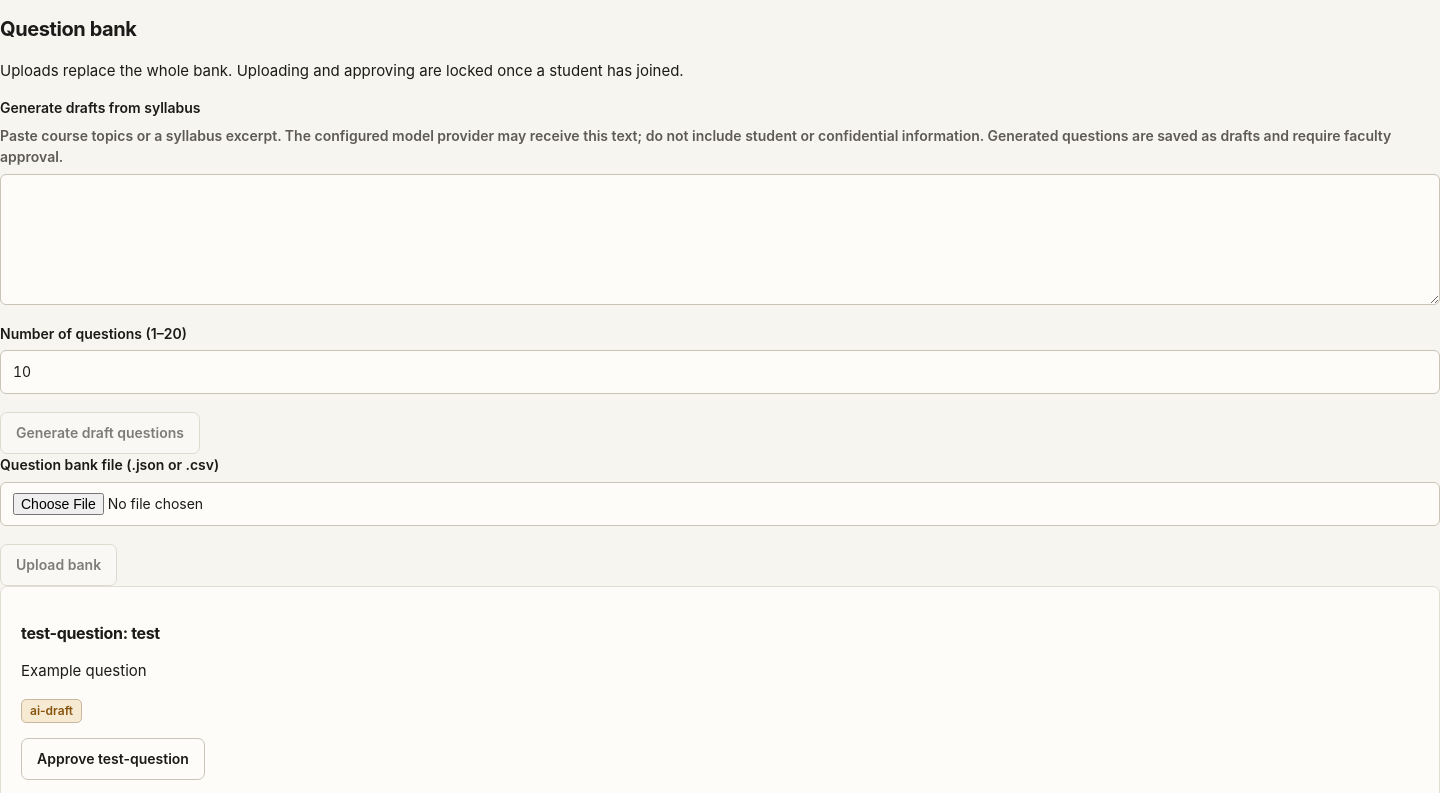
Scenario: Faculty uploads › does not claim approval until the server confirms it
Click the button "Approve test-question" at (113, 759), box top-left (21, 738), bottom-right (205, 780)
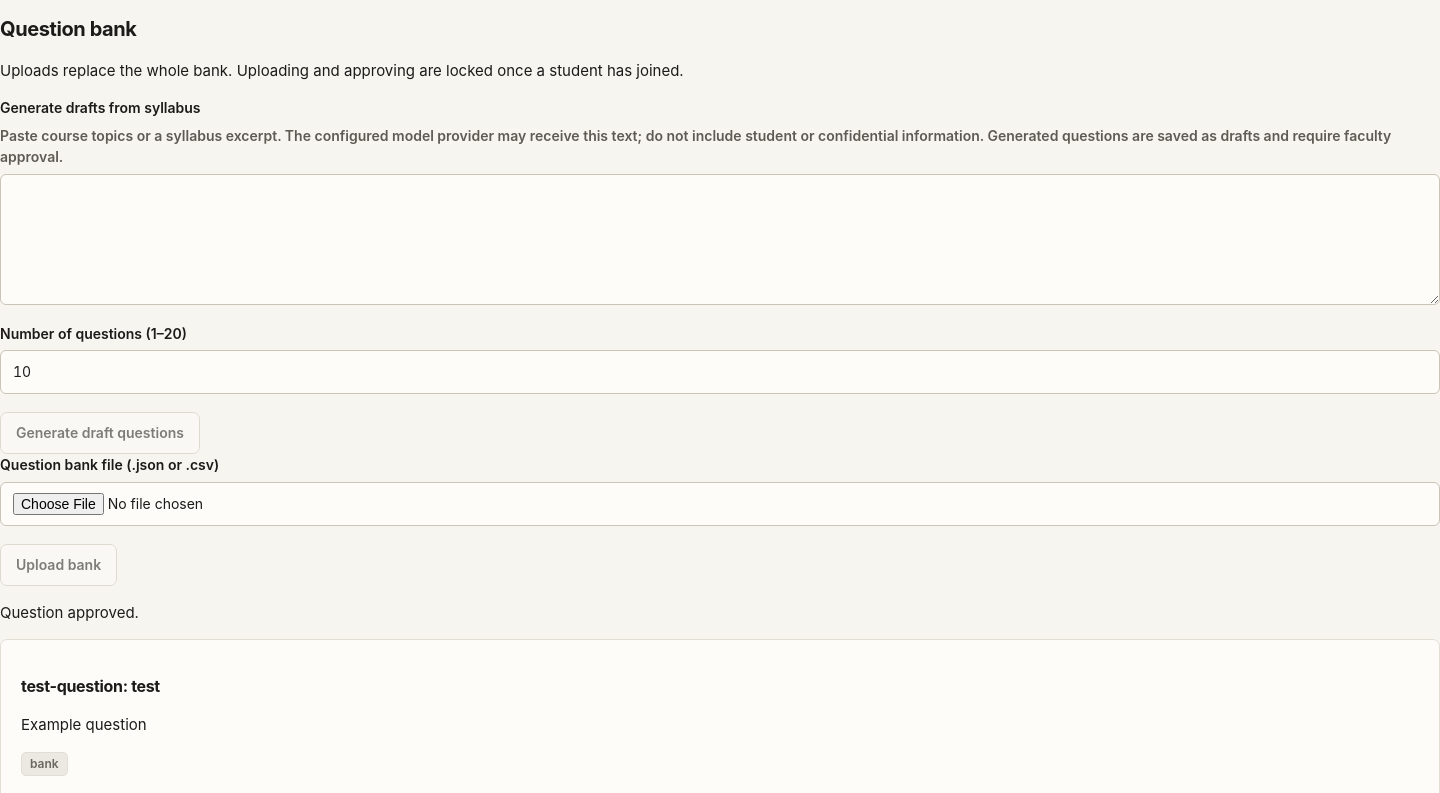
Check: the text "Question approved." is shown, box top-left (0, 603), bottom-right (139, 622)
